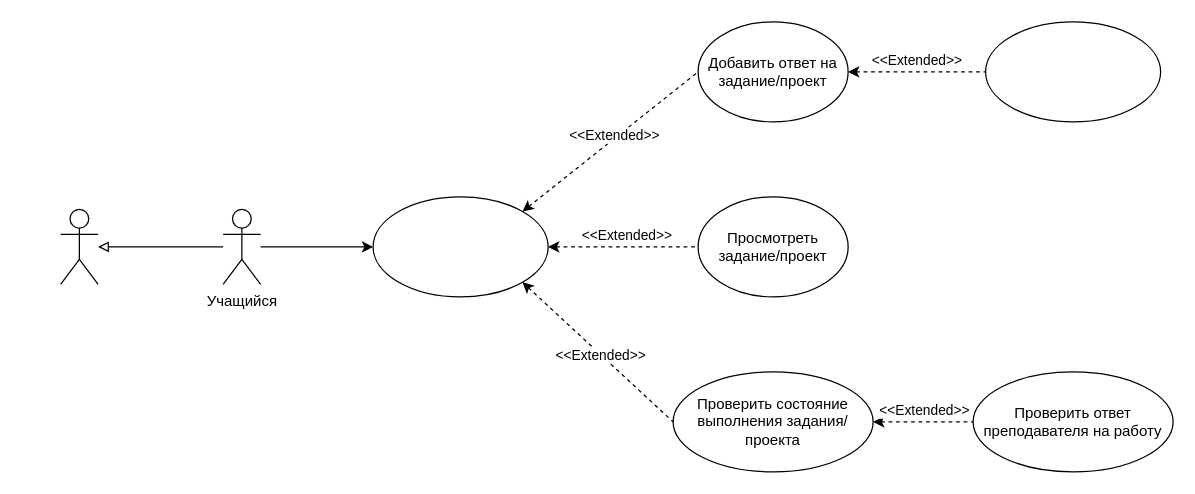
This 1195x494 diagram has some shape labels left out. The centre of each missing label's shape, as x and y in pixels:
"Авторизованный пользователь" goes at pixel 78 246.
"Взаимодействие с заданиями/проектами" goes at pixel 460 246.
"Прикрепить файл к ответу" goes at pixel 1072 71.
